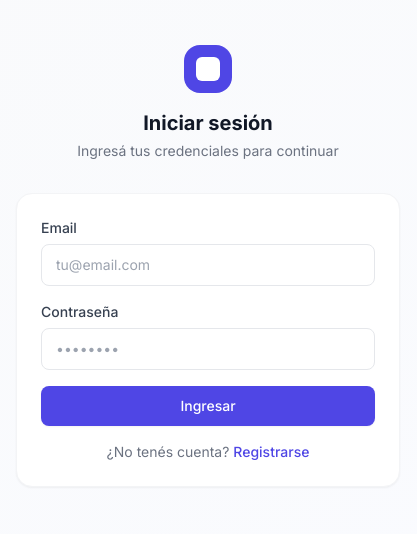
AuthenticationPage › shows Firebase error message on failed login
This screenshot has width=417, height=534.
Type "bad@test.com" into the field labelled "Email" at (208, 265), box [41,244,375,286]
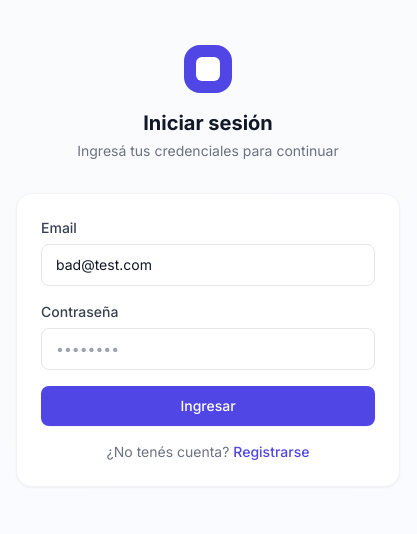
Type "wronga" into the password field labelled "Contraseña" at (208, 349), box [41,328,375,370]
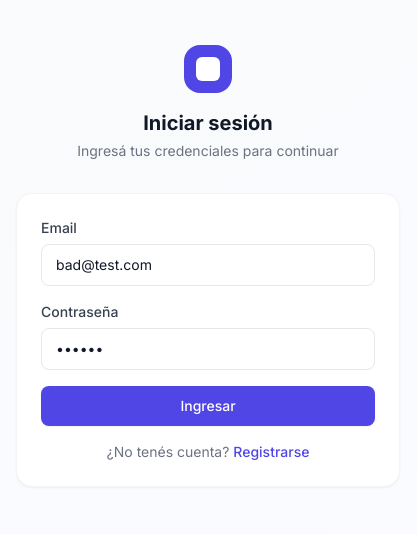
Click the button "Ingresar" at (208, 406), box [41,386,375,426]
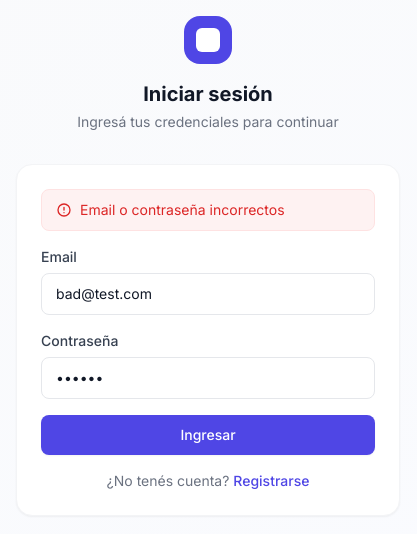
Check: the text "Email o contraseña incorrectos" is shown, box [80,200,285,220]
